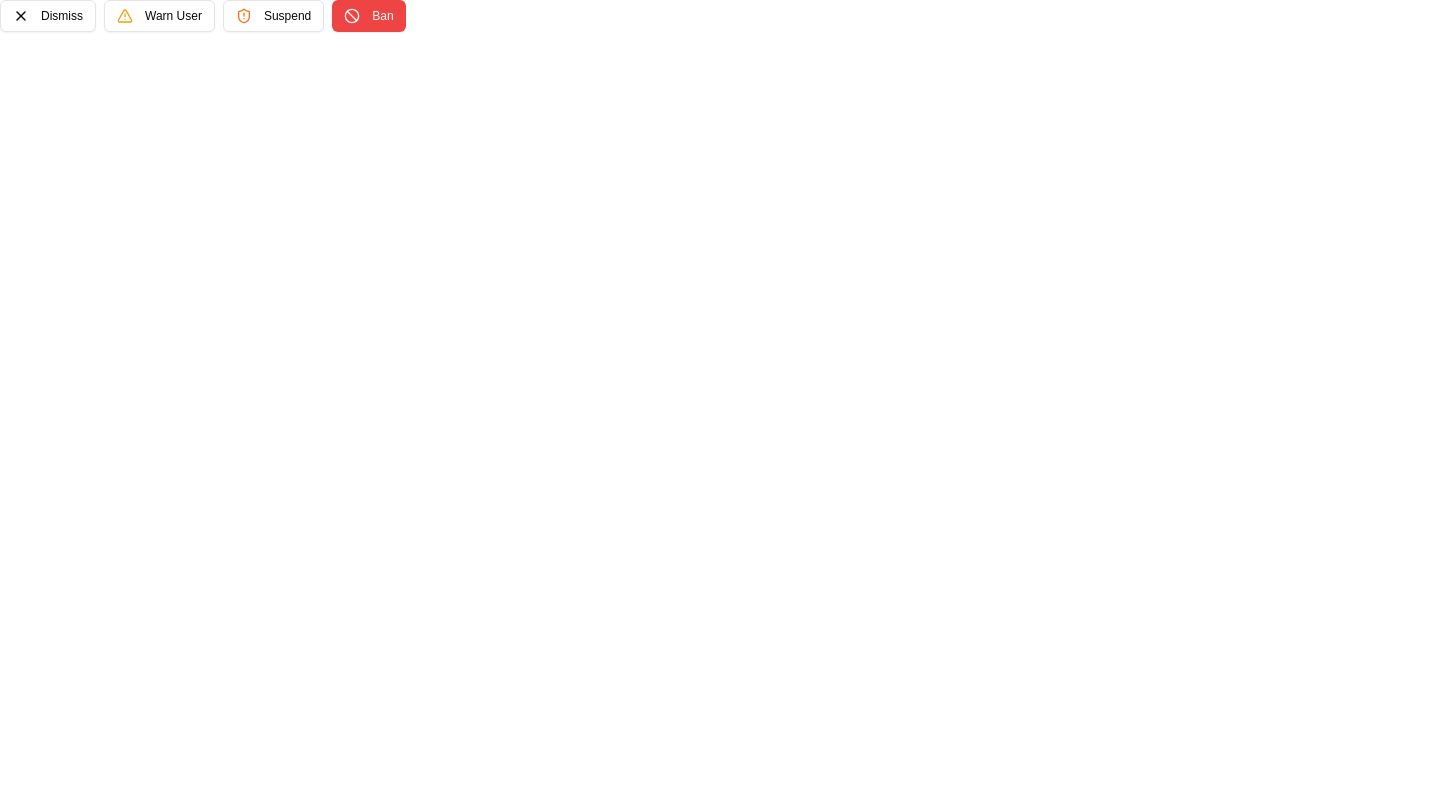
ModerationActions › opens Ban confirmation dialog when Ban button is clicked
Click the button "Ban".
click(369, 16)  # box [332, 0, 406, 32]
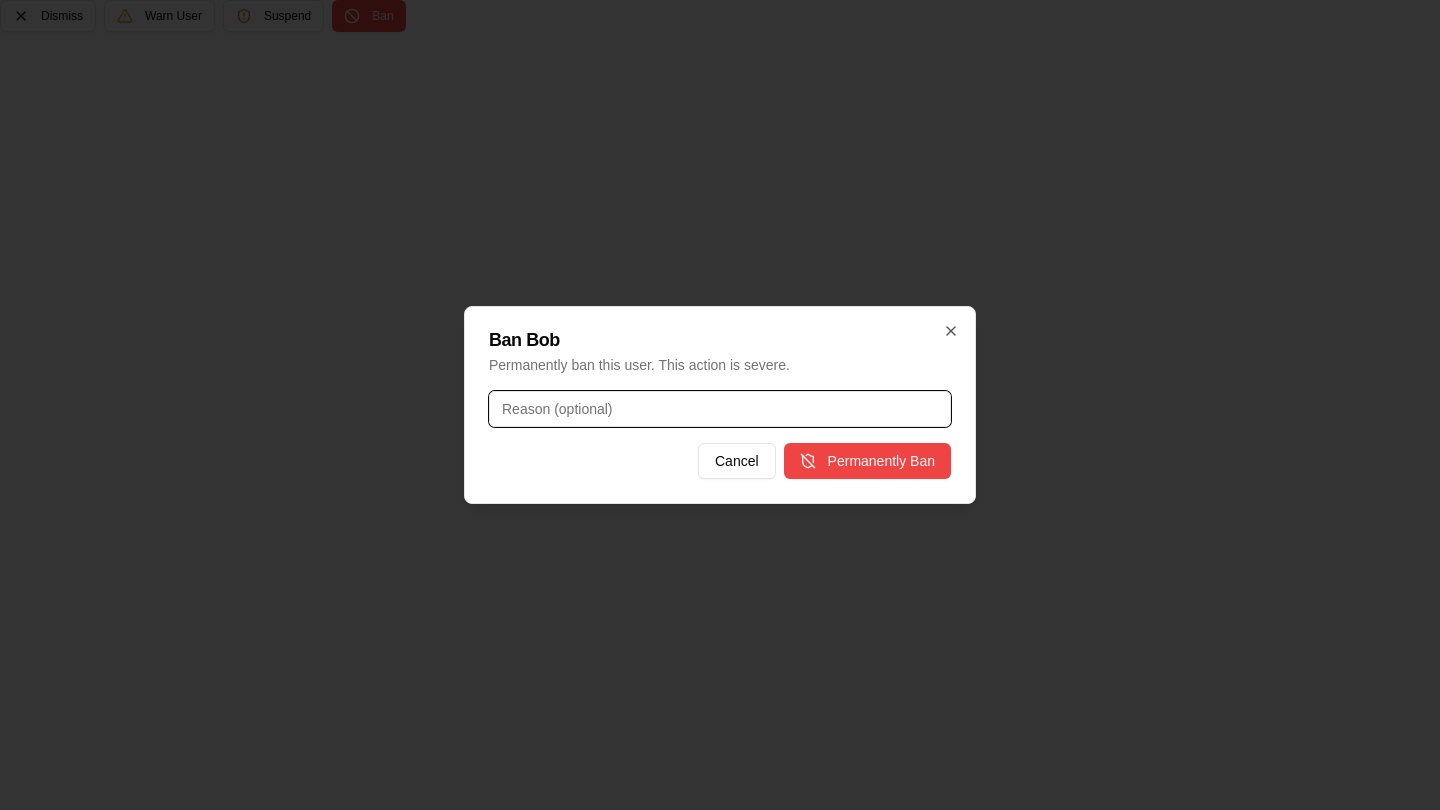
expect the heading "Ban Bob" is shown: met, box [489, 330, 560, 350]
expect the text "Permanently ban this user. This action is severe." is shown: met, box [489, 357, 790, 373]
